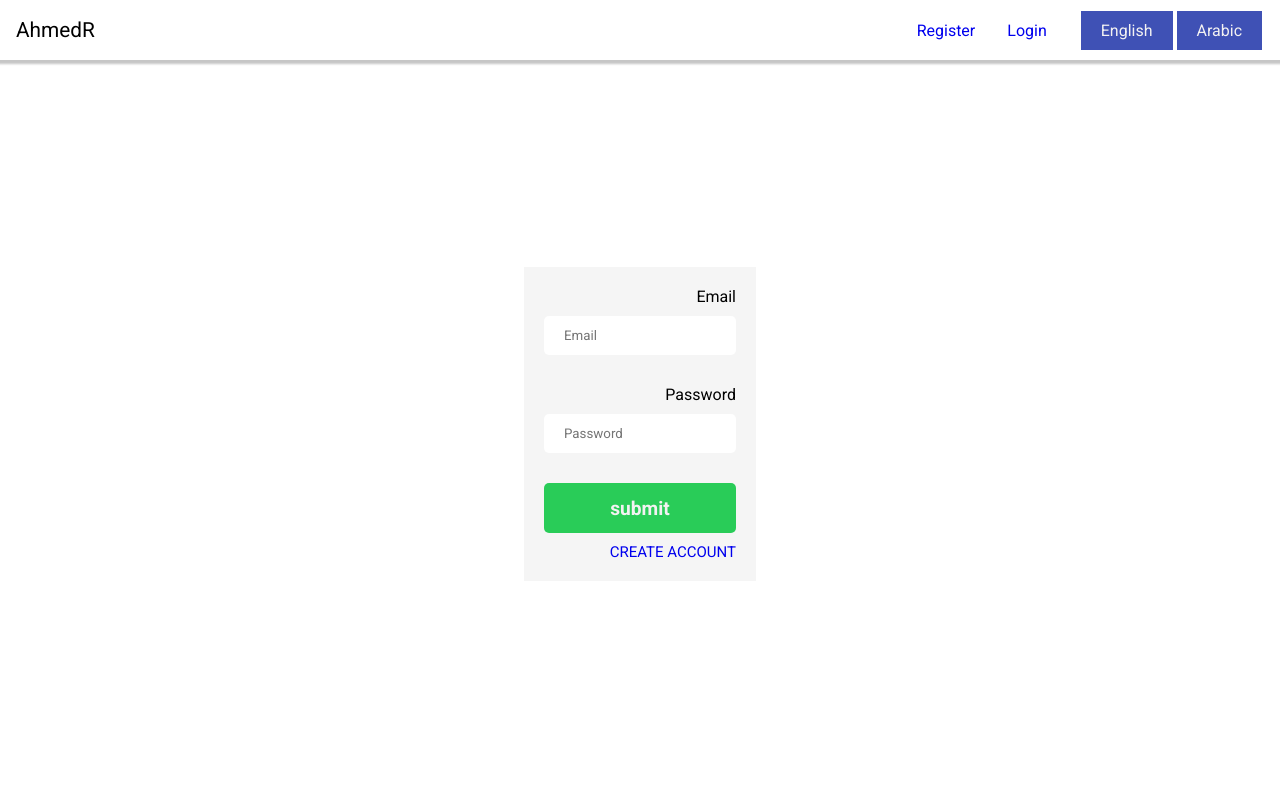
it: Login form test › Should display an error message if email and password fields are empty
Click the button with test id "login-submit".
click(640, 508)  # box [544, 483, 736, 533]
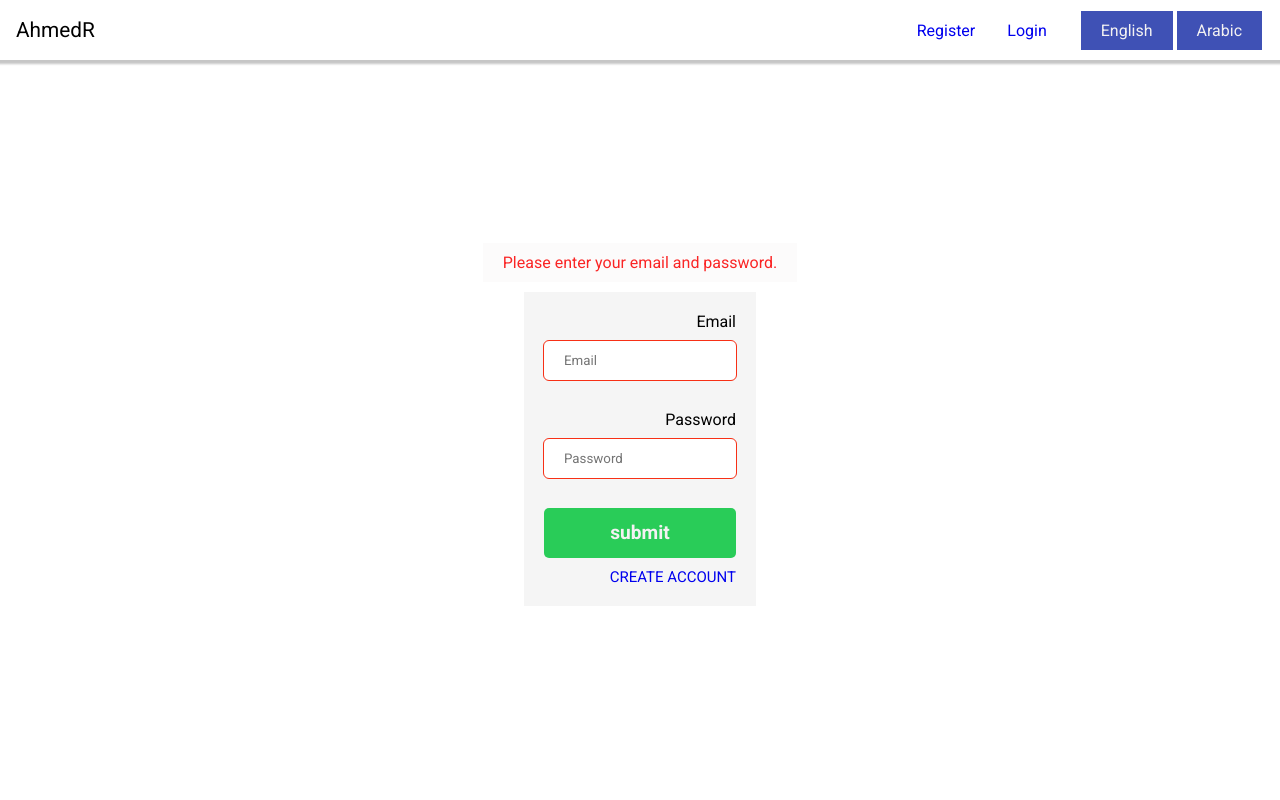
Expected: the text "Please enter your email and password." is shown, [483, 242, 797, 282]
Expected: the text with test id "login-error" reads "Please enter your email and password.", [503, 253, 777, 272]
